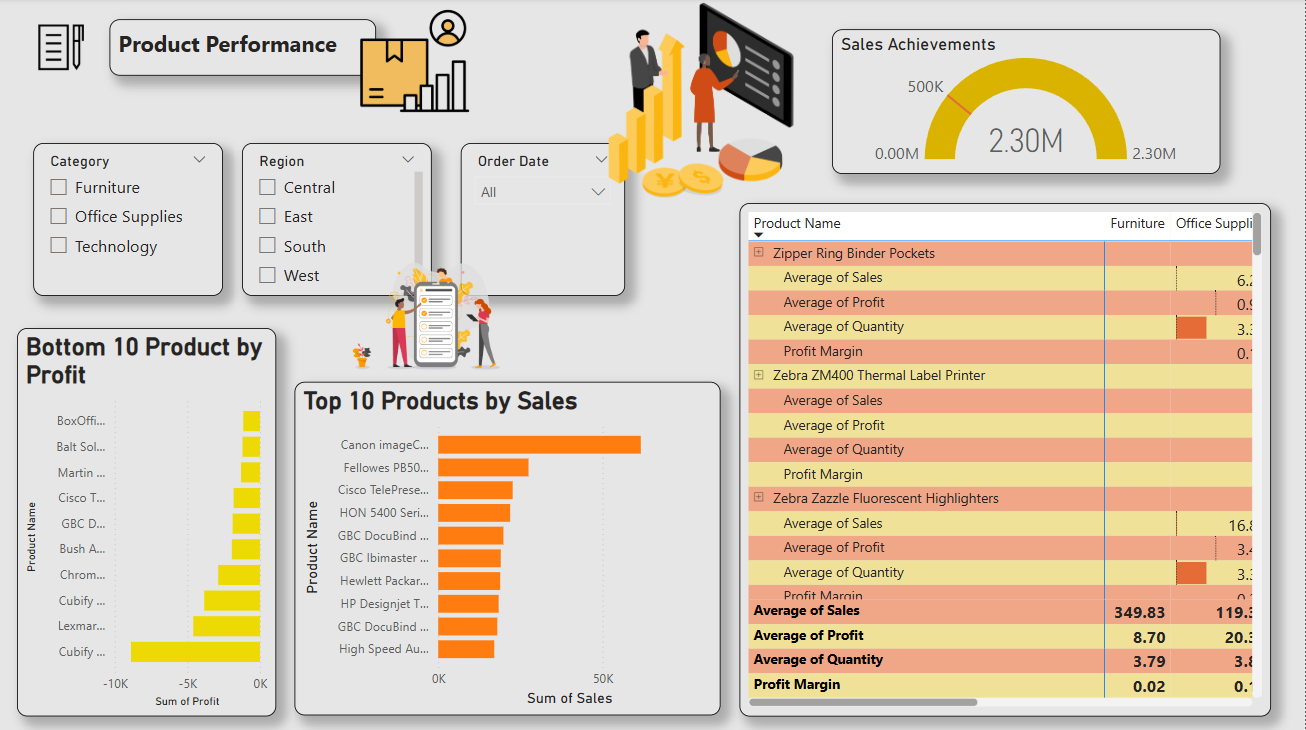

This screenshot's page, from the dashboard's own definition file:
{"tool":"powerbi","page":{"name":"Product Performance","canvas":[1280,720],"ordinal":4},"visuals":[{"type":"clusteredBarChart","title":"Top 10 Products by Sales","fields":{"Category":["Sample - Superstore.Product Name"],"Y":["Sum(Sample - Superstore.Sales)"]},"box":[290.9,376,417.2,326.6],"z":0},{"type":"clusteredBarChart","title":"Bottom 10 Product by Profit","fields":{"Category":["Sample - Superstore.Product Name"],"Y":["Sum(Sample - Superstore.Profit)"]},"box":[19.2,322.5,253.9,380.1],"z":1000},{"type":"pivotTable","fields":{"Rows":["Sample - Superstore.Product Name","Sample - Superstore.Sub-Category"],"Columns":["Sample - Superstore.Category"],"Values":["Avg(Sample - Superstore.Sales)","Avg(Sample - Superstore.Profit)","Avg(Sample - Superstore.Quantity)","Sample - Superstore.Profit Margin"]},"box":[725.9,200.3,520.1,502.2],"z":2000},{"type":"slicer","fields":{"Values":["Sample - Superstore.Category"]},"box":[35.7,141.3,185.2,149.6],"z":3000},{"type":"slicer","fields":{"Values":["Sample - Superstore.Region"]},"box":[240.1,141.3,185.2,149.6],"z":4000},{"type":"slicer","fields":{"Values":["Sample - Superstore.Order Date"]},"box":[454.2,141.3,160.5,149.6],"z":5000},{"type":"image","box":[35.7,12.3,54.9,71.4],"z":6000},{"type":"textbox","box":[109.8,20.6,260.7,54.9],"z":7000},{"type":"image","box":[576.3,0,225,200.3],"z":8000},{"type":"image","box":[333.4,247,190.7,129],"z":9000},{"type":"image","box":[273.1,0,271.7,123.5],"z":10000},{"type":"gauge","title":"Sales Achievements ","fields":{"Y":["Sum(Sample - Superstore.Sales)"],"TargetValue":["Sample - Superstore.Sales Target"]},"box":[816.5,30.2,380.1,141.3],"z":10001}]}

Visuals, with their boxes in screenshot pixels (x1, y1, x2, y2), scaled from the page's 1280x720 canvas onto the 1306x730 screenshot:
"Top 10 Products by Sales" clusteredBarChart: <box>297,381,722,712</box>
"Bottom 10 Product by Profit" clusteredBarChart: <box>20,327,279,712</box>
pivotTable - Sample - Superstore.Product Name x Sample - Superstore.Sub-Category: <box>741,203,1271,712</box>
slicer - Sample - Superstore.Category: <box>36,143,225,295</box>
slicer - Sample - Superstore.Region: <box>245,143,434,295</box>
slicer - Sample - Superstore.Order Date: <box>463,143,627,295</box>
image: <box>36,12,92,85</box>
textbox: <box>112,21,378,77</box>
image: <box>588,0,818,203</box>
image: <box>340,250,535,381</box>
image: <box>279,0,556,125</box>
"Sales Achievements " gauge: <box>833,31,1221,174</box>
